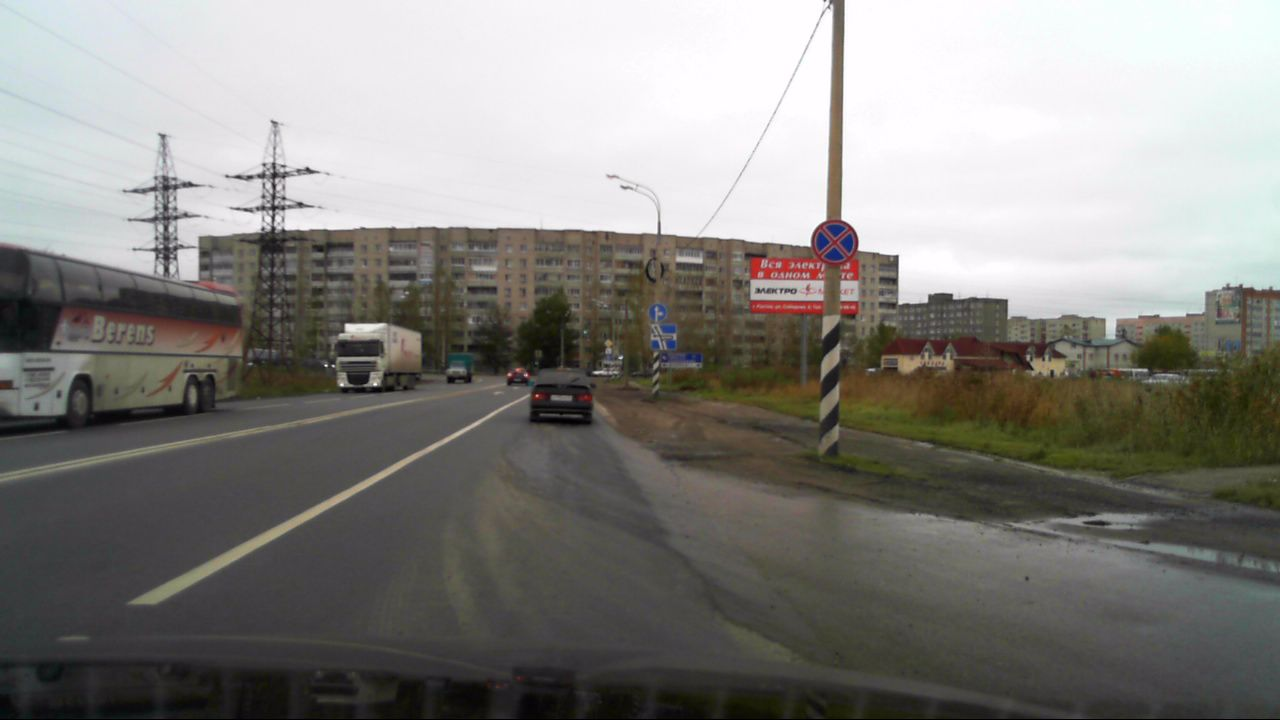No Parking: (810, 219, 857, 265)
